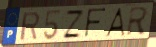5: (42, 9, 62, 42)
A: (104, 7, 126, 37)
F: (83, 7, 107, 39)
R: (126, 6, 150, 37), (19, 10, 41, 42)
Z: (61, 9, 86, 39)
